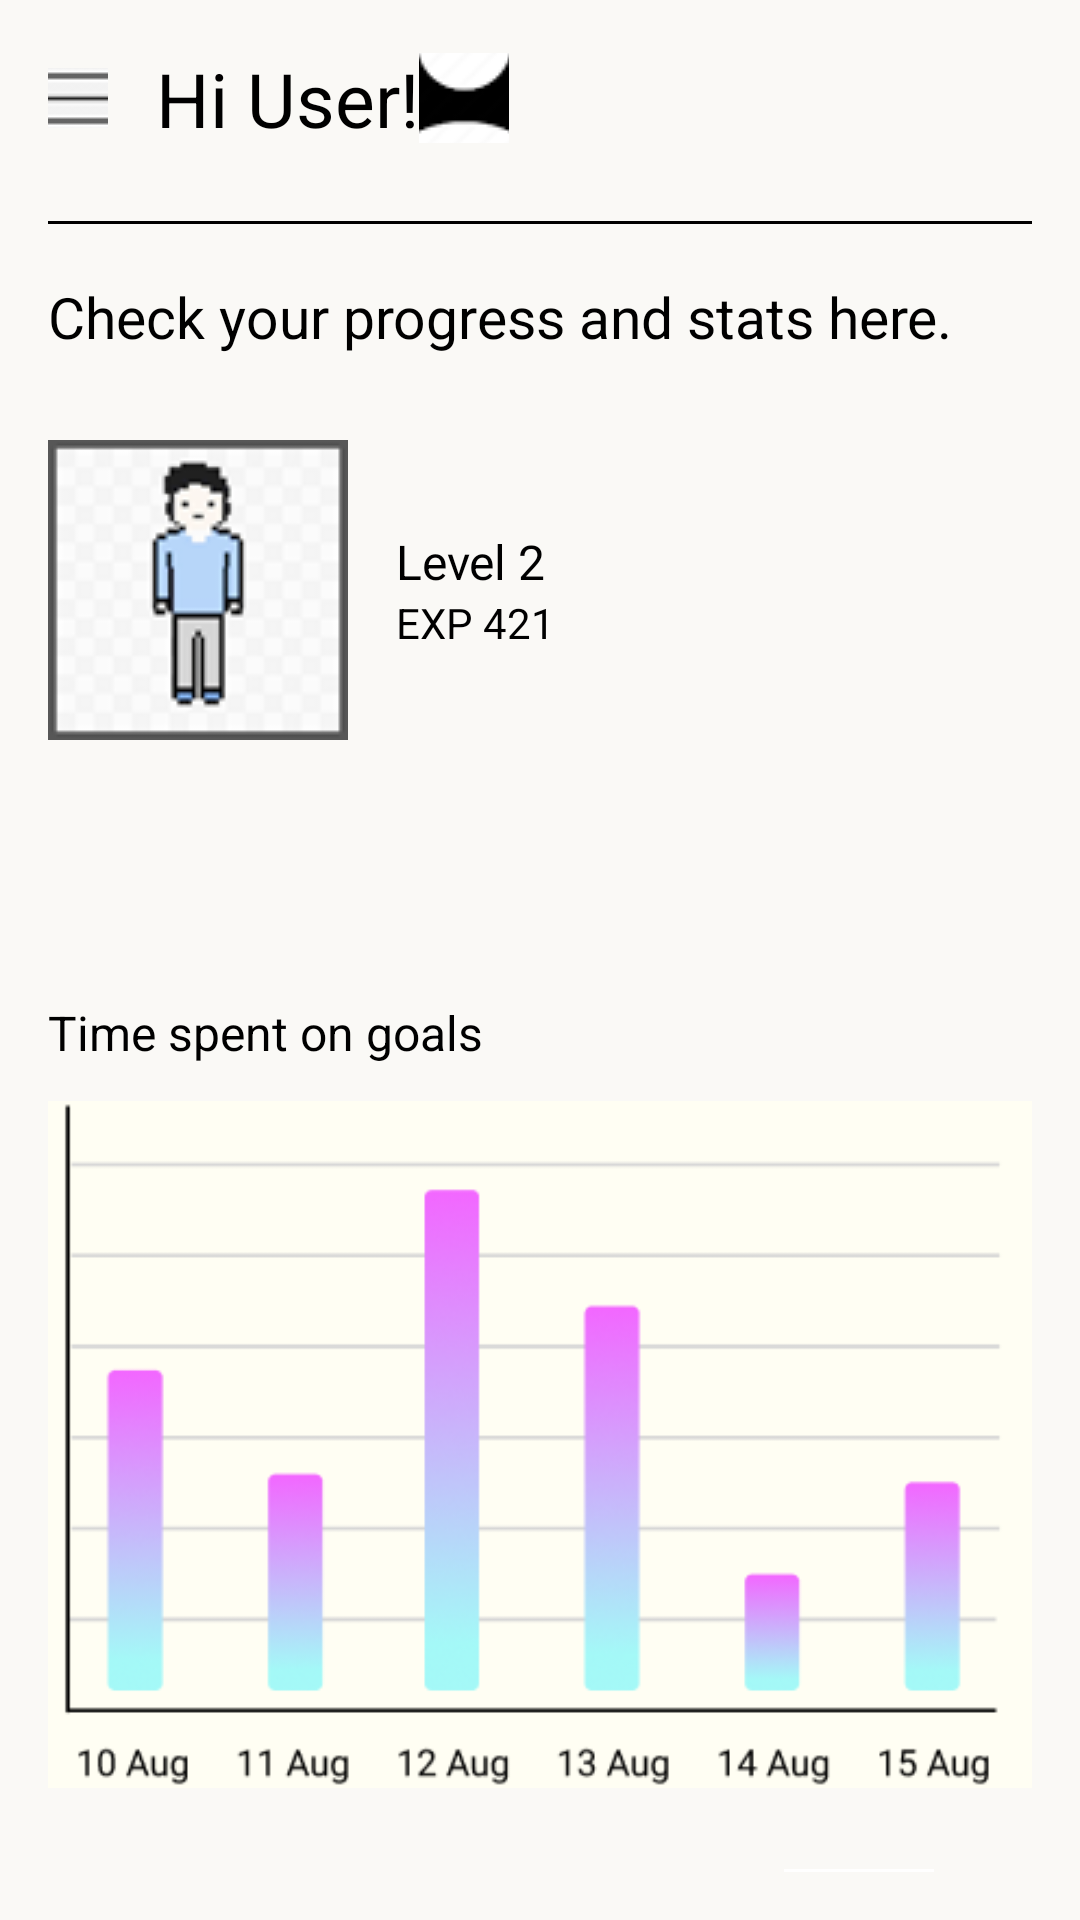

Icons on this 1080px x 1920px Android screen, each with its box as region(x1, y1, x2, y2):
Menu: region(48, 72, 108, 125)
User avatar: region(48, 440, 348, 740)
